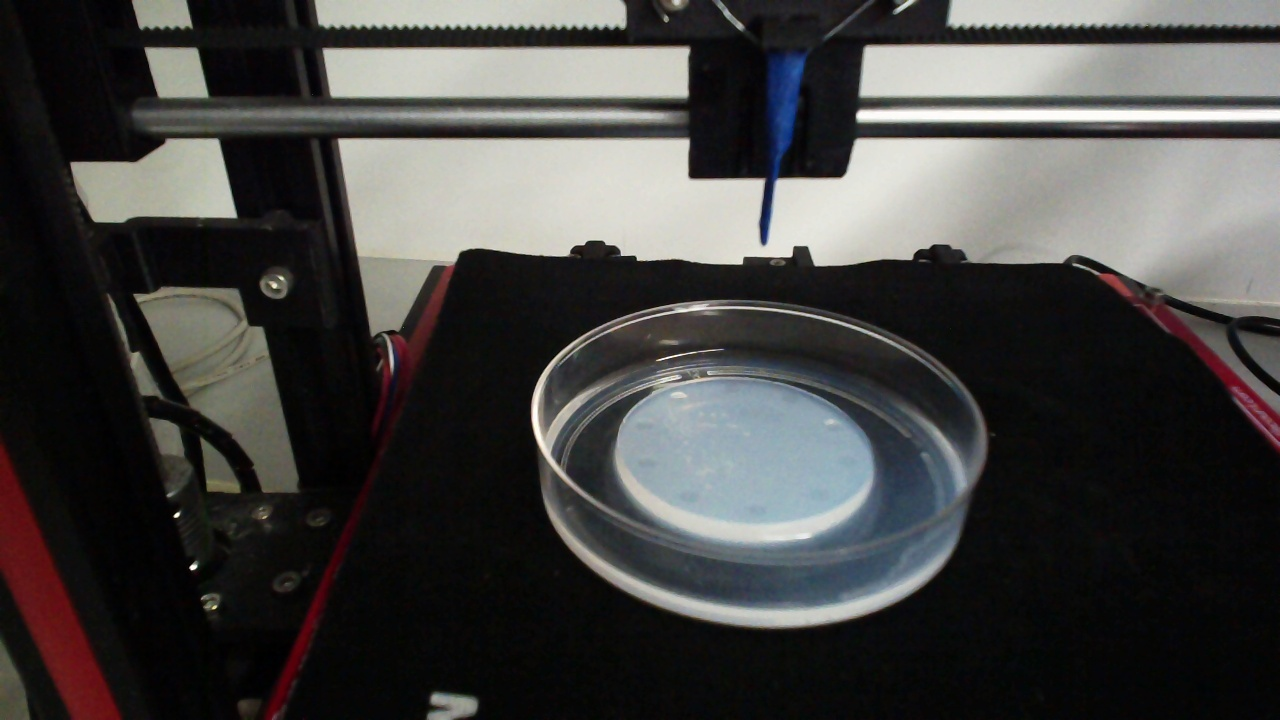groove: (675, 487, 700, 504), (744, 503, 767, 520), (635, 455, 659, 470), (808, 486, 829, 503), (632, 417, 655, 432), (835, 453, 857, 468), (822, 417, 842, 433), (779, 392, 801, 405), (668, 389, 686, 403), (722, 382, 741, 395)
needle: (759, 51, 804, 250)
